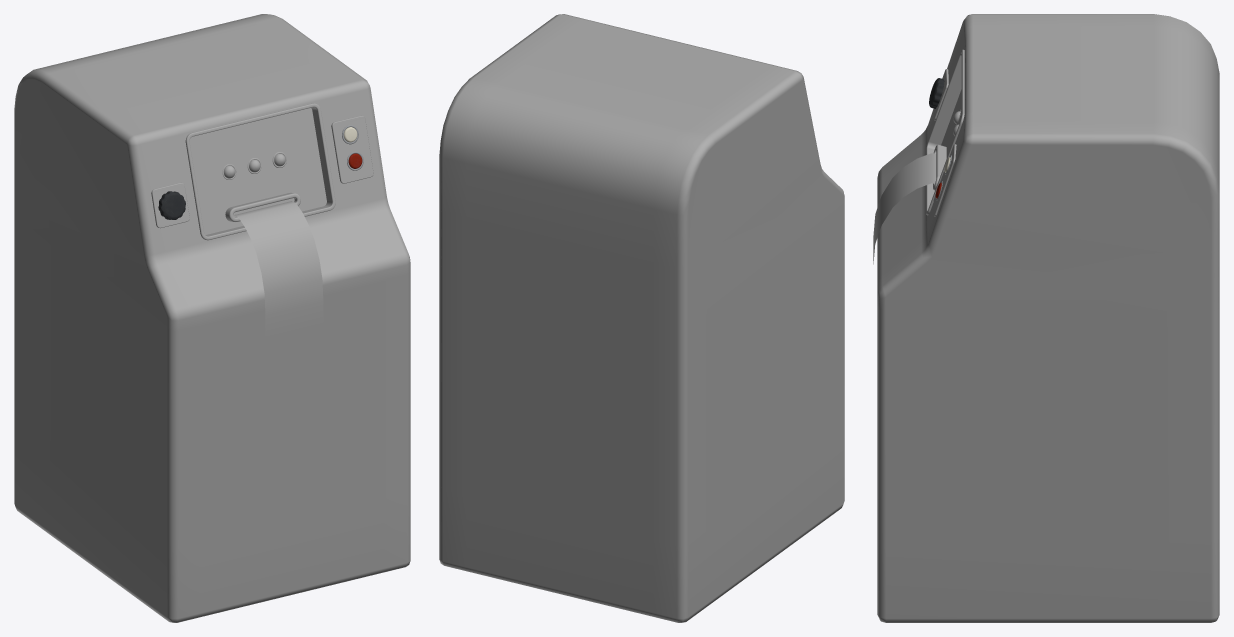
Rendered from PaperDevice.fbx.
3 views of the same model, side by side, from view 1: azimuth 30°, elevation 25°; view 2: azimuth 150°, elevation 25°; view 3: azimuth 270°, elevation 25° (orthographic). The views are drawn at different scales.
Visible parts, largest first — view 1: BodyPD, PaperPD, duplicated_47, mirrored_x_3, duplicated_01, duplicated_43, Knob12, Lamp; view 2: BodyPD; view 3: BodyPD, PaperPD, duplicated_47.
Part boxes in pixels (x1,y1,x2,y2): BodyPD: (14,14,410,622); PaperPD: (234,201,323,337); duplicated_47: (185,103,335,240); mirrored_x_3: (331,115,373,183); duplicated_01: (151,182,189,228); duplicated_43: (225,192,300,221); Knob12: (158,191,185,219); Lamp: (222,152,286,179); BodyPD: (439,14,844,622); BodyPD: (877,14,1219,622); PaperPD: (873,153,936,264); duplicated_47: (926,49,964,215).
Bounding box in the file's own units: 92.75 × 167 × 107.
